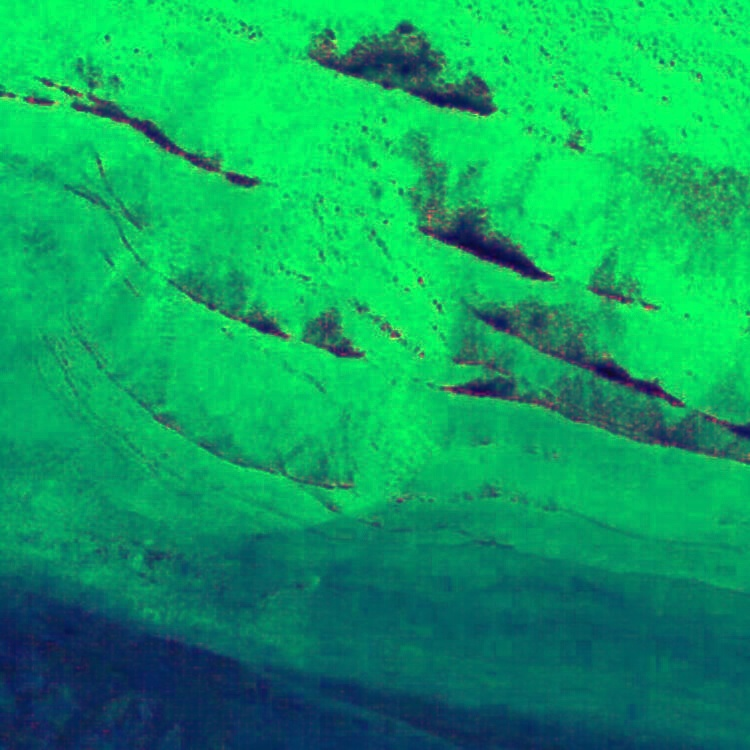rip_current: (213, 81, 496, 553)
